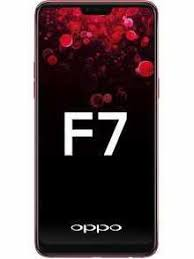oppo: (28, 1, 161, 259)
